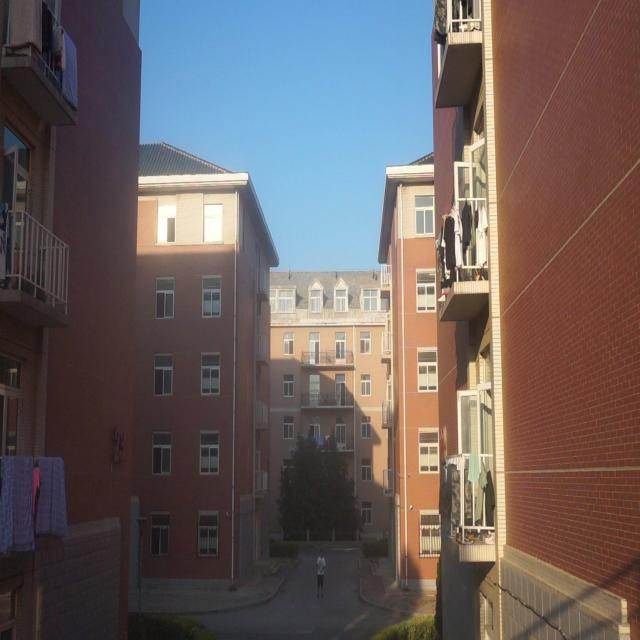UAV: (287, 444, 299, 456)
